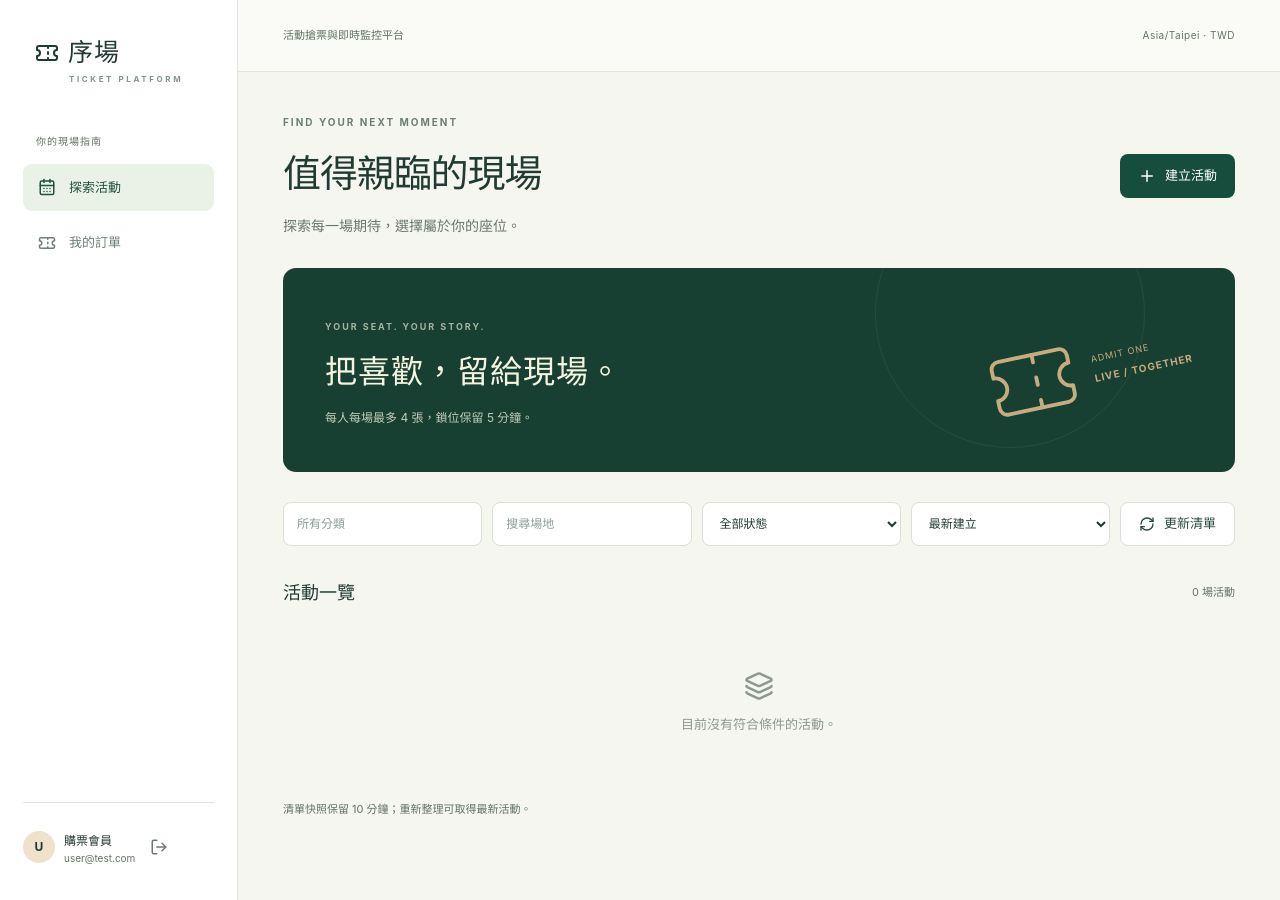
Scenario: 購票平台公開介面 › 登出未獲伺服器確認時保留登入並顯示可重試錯誤
This screenshot has width=1280, height=900.
Click the button named "登出" at (159, 846), box [144,832,174,862]
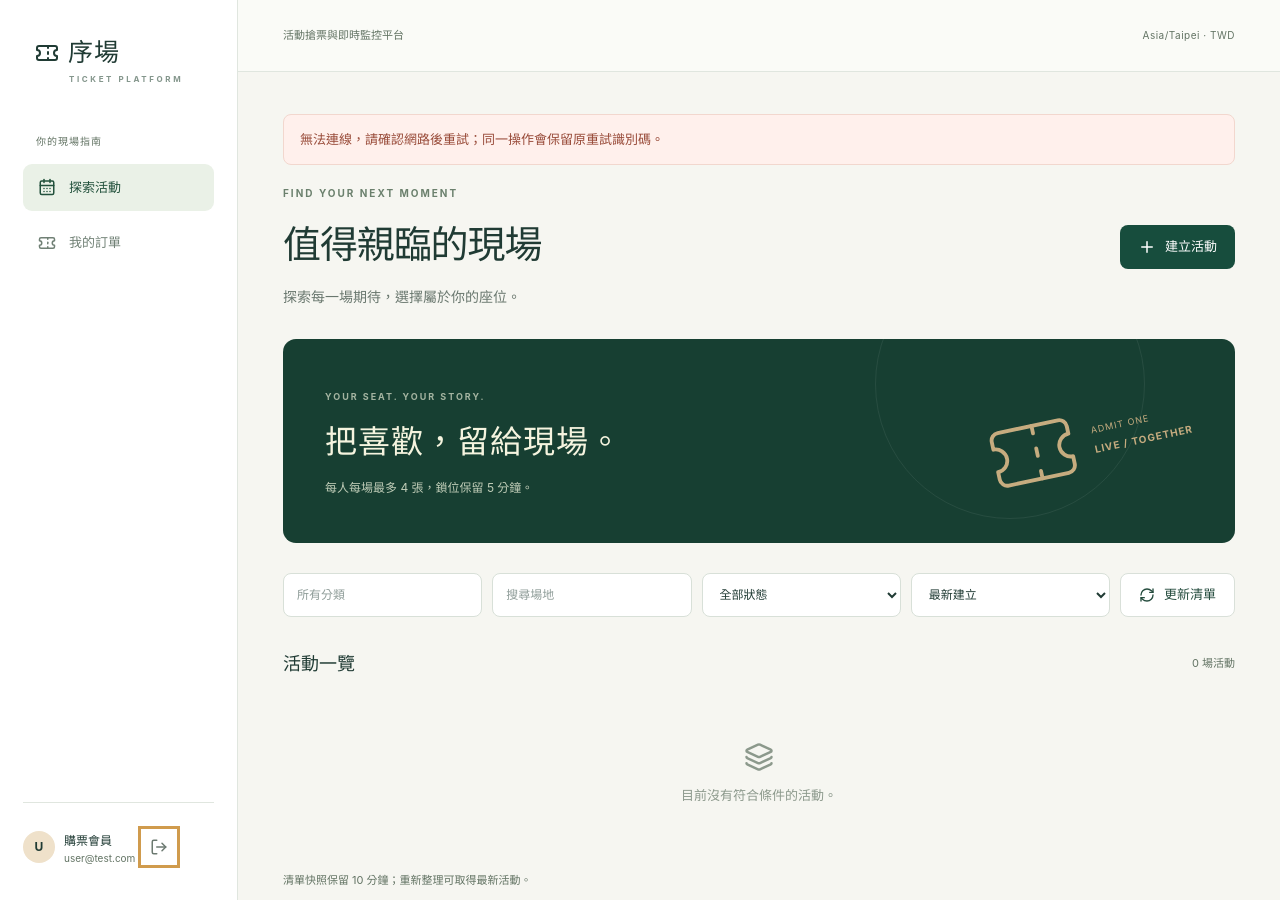
Check: the button "我的訂單" is shown, box [23,219,214,266]
Check: the message shows "無法連線", box [300,131,664,147]
